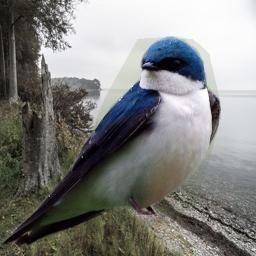Swallow: (0, 36, 221, 249)
